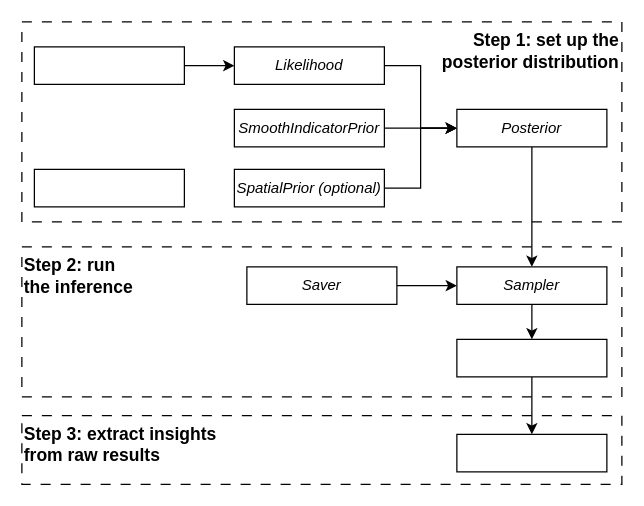
This 644x506 diagram has some shape labels left out. Here are the shapes that lost their labels. From the top down, the centre of each, then its label:
(x=108, y=65): ForwardMap
(x=108, y=187): Scaler
(x=531, y=357): Run
(x=531, y=452): Results
